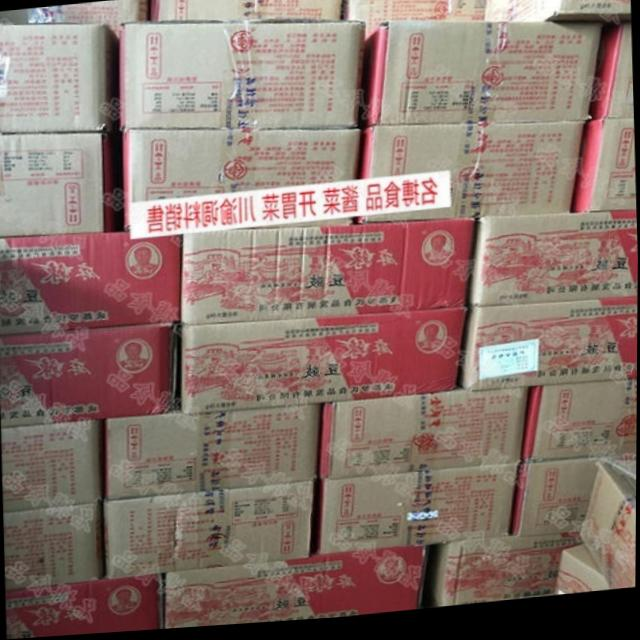box: (180, 223, 475, 327), (179, 315, 467, 416), (119, 22, 365, 132), (355, 27, 603, 133), (122, 130, 359, 231), (356, 130, 584, 227), (166, 549, 428, 631), (105, 407, 321, 503), (103, 484, 314, 581), (318, 394, 530, 484), (0, 233, 181, 334), (0, 324, 179, 426), (317, 470, 521, 558), (459, 305, 638, 396), (469, 220, 638, 314), (0, 23, 118, 133), (0, 133, 120, 237), (428, 542, 582, 613), (510, 461, 637, 542), (6, 576, 164, 639), (1, 420, 103, 513), (522, 389, 638, 470), (4, 505, 104, 588), (578, 468, 637, 598), (345, 0, 485, 47), (570, 126, 636, 220), (586, 30, 634, 130), (148, 0, 343, 24), (483, 0, 631, 30)
